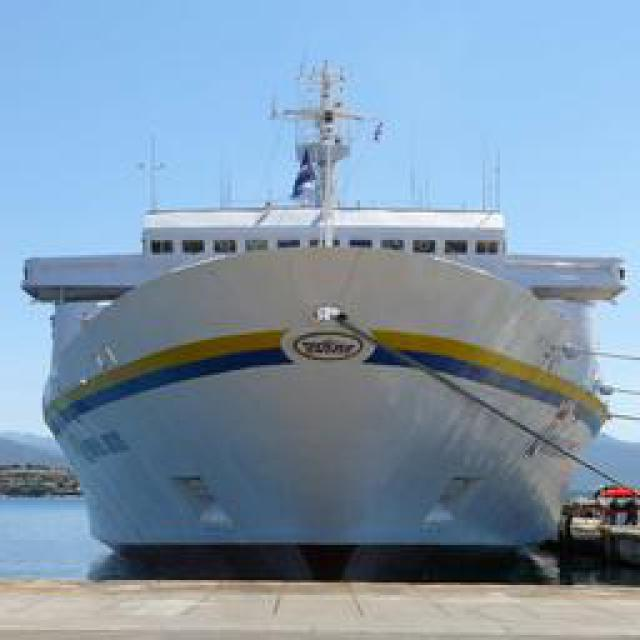Ship: (32, 218, 625, 576)
